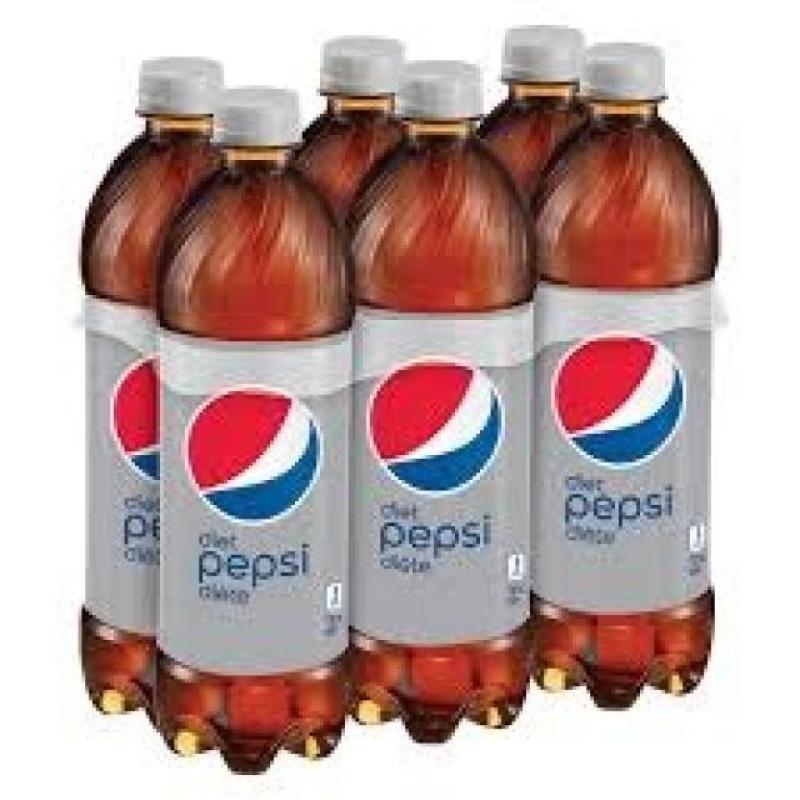botella: (154, 89, 350, 775), (522, 42, 718, 708), (343, 64, 532, 744), (80, 61, 226, 718), (290, 37, 408, 226), (474, 27, 596, 198)
